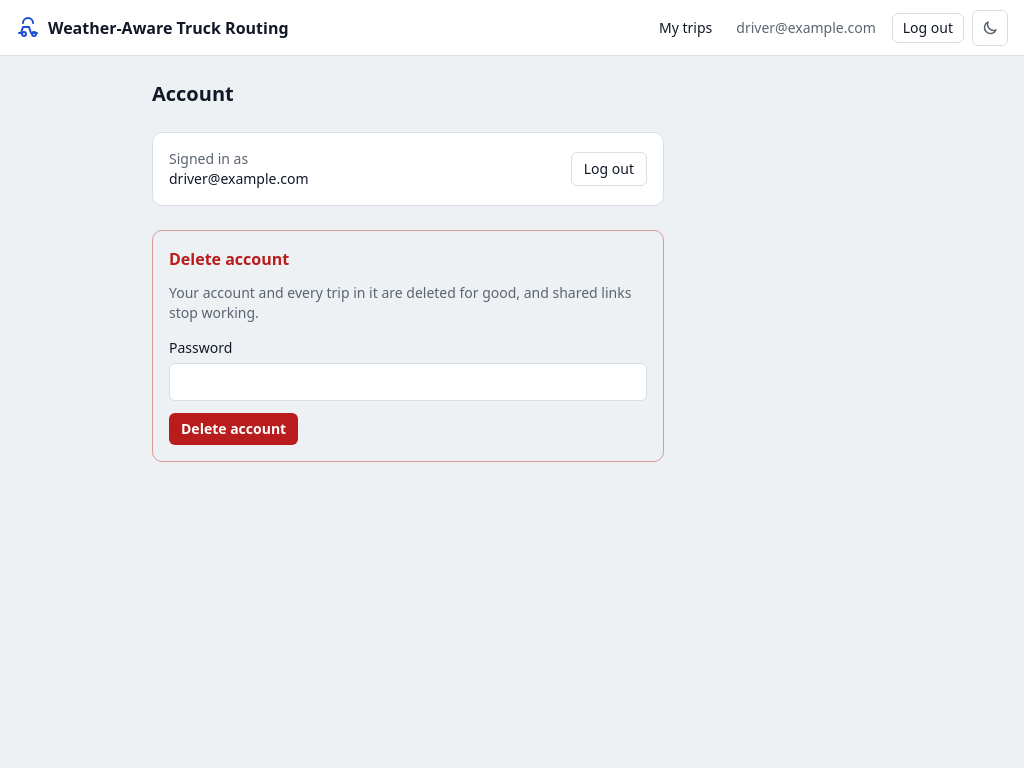
Test case: account page › logs out to the planner
Click the button "Log out" in the row of "Signed in as". click: (609, 169)
box: x1=571 y1=152 x2=647 y2=186
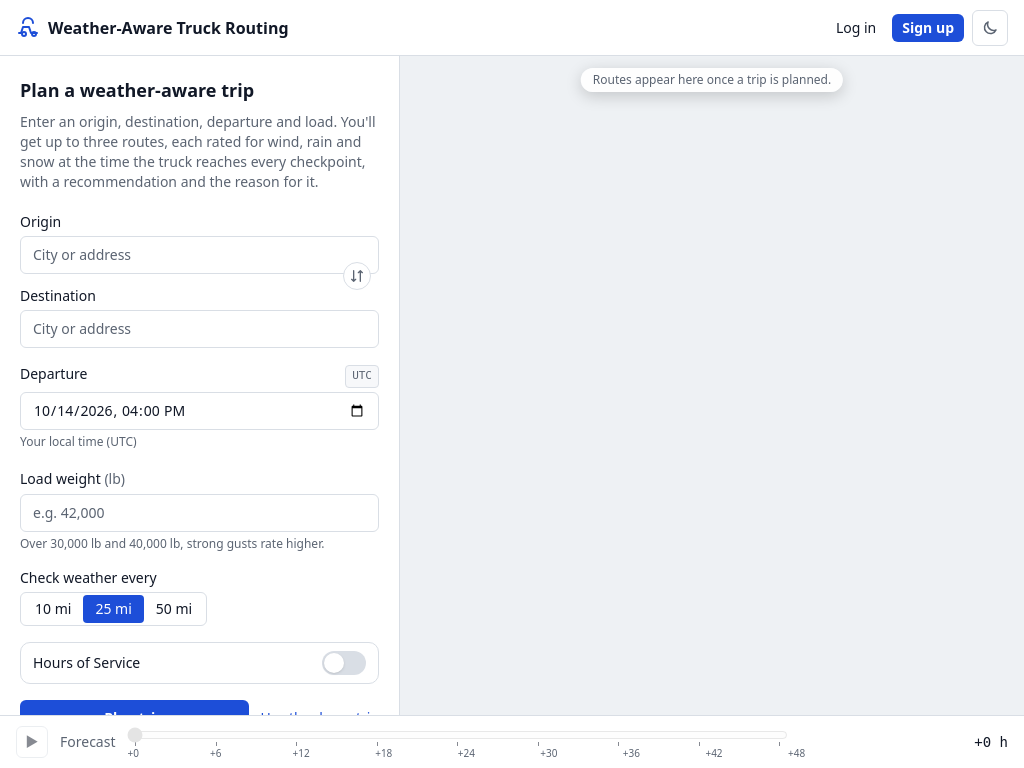
Expected: the heading "Plan a weather-aware trip" is shown, x1=20 y1=78 x2=254 y2=102
